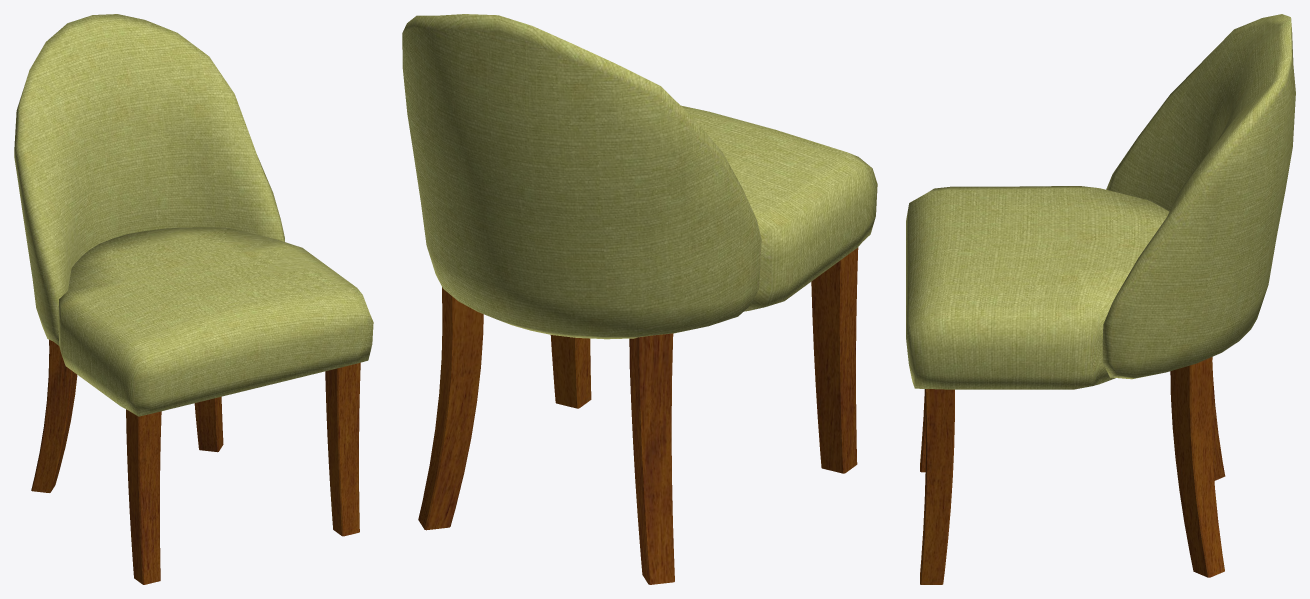
File: Chair.glb
3 views of the same model, side by side, from view 1: azimuth 30°, elevation 25°; view 2: azimuth 150°, elevation 25°; view 3: azimuth 270°, elevation 25° (orthographic). The views are drawn at different scales.
Parts seen in each view (by area): view 1: sitting chair009; view 2: sitting chair009; view 3: sitting chair009.
Boxes of the visible parts, x1,y1,x2,y2 form: sitting chair009: (14, 14, 373, 584); sitting chair009: (402, 14, 877, 584); sitting chair009: (906, 14, 1295, 584).
Bounding box in the file's own units: 0.5091 × 0.8384 × 0.5989.
Materials: 1 (1 with a texture image).
